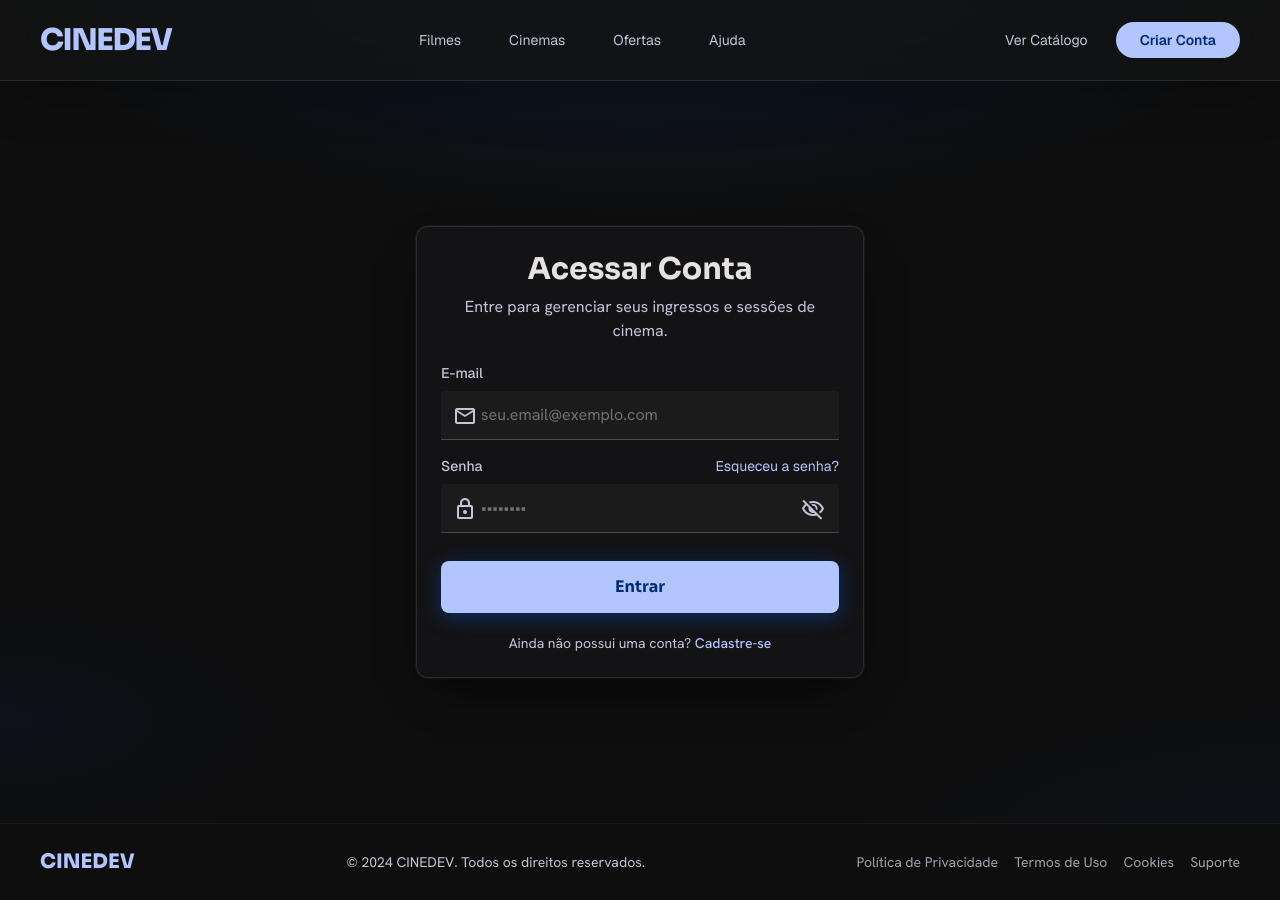
LoginPage › shows validation error when submitting with empty email
Click the button "Entrar" at point(640, 587), box [441, 561, 839, 613]
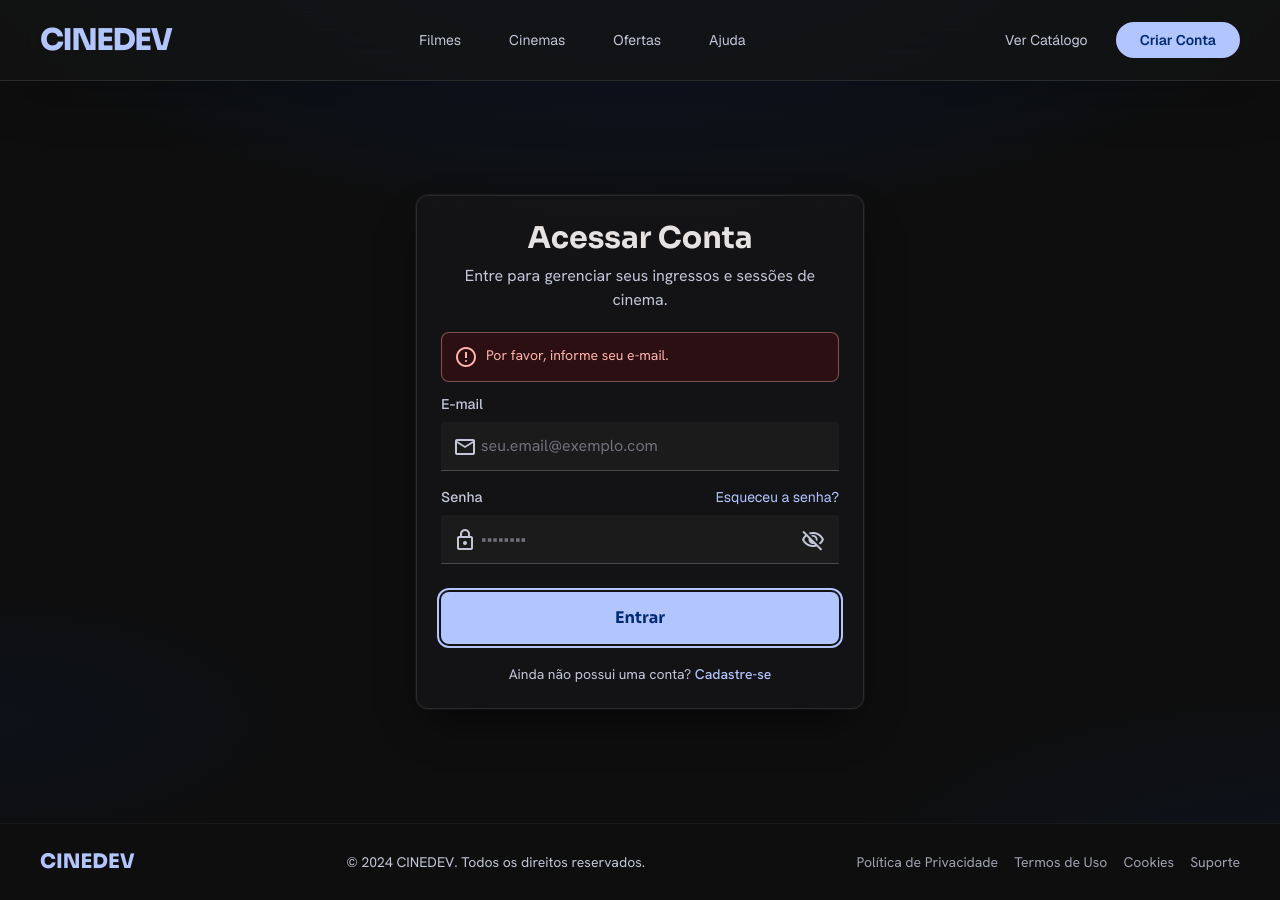
Check: the message reads "Por favor, informe seu e-mail.", box [486, 346, 669, 364]
